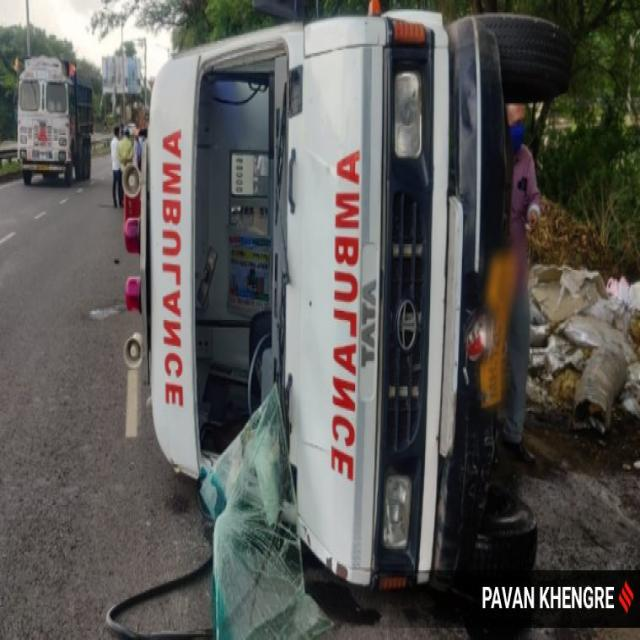accident: (145, 0, 571, 588)
truck: (18, 56, 92, 184)
